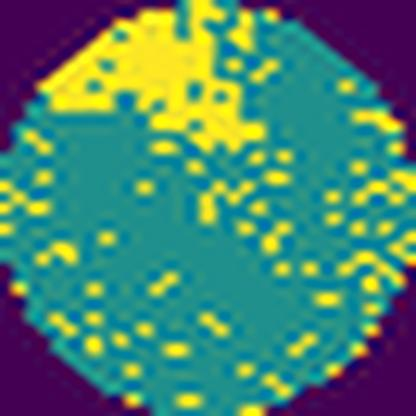Edge-Loc: (32, 0, 272, 146)
